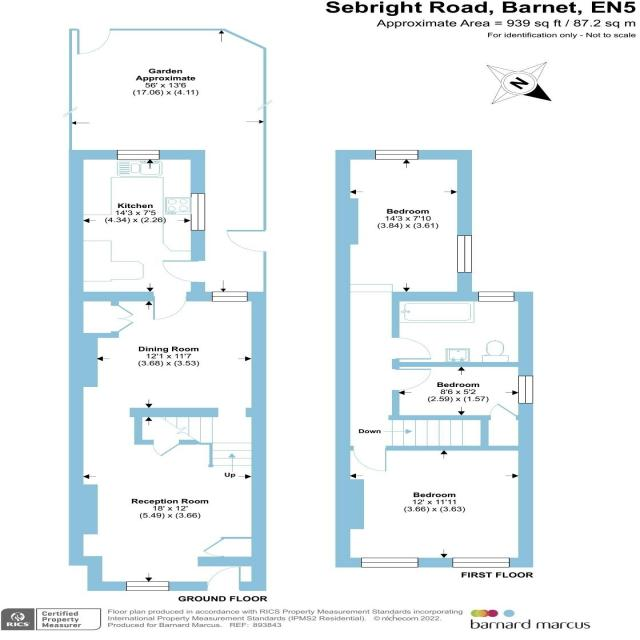DOOR: (352, 445, 389, 473), (151, 292, 188, 320), (162, 260, 205, 283), (205, 566, 243, 591), (391, 368, 432, 391), (392, 337, 432, 360), (151, 440, 180, 457)
ROOM: (69, 291, 267, 591), (335, 446, 534, 568), (69, 150, 205, 320), (335, 150, 473, 301), (392, 362, 534, 420)
WINDOW: (360, 557, 419, 568), (452, 557, 511, 568), (456, 235, 473, 273), (190, 193, 206, 231), (517, 375, 534, 404), (375, 149, 419, 160), (125, 581, 170, 591), (117, 150, 160, 160), (477, 291, 515, 302), (211, 291, 248, 302)
